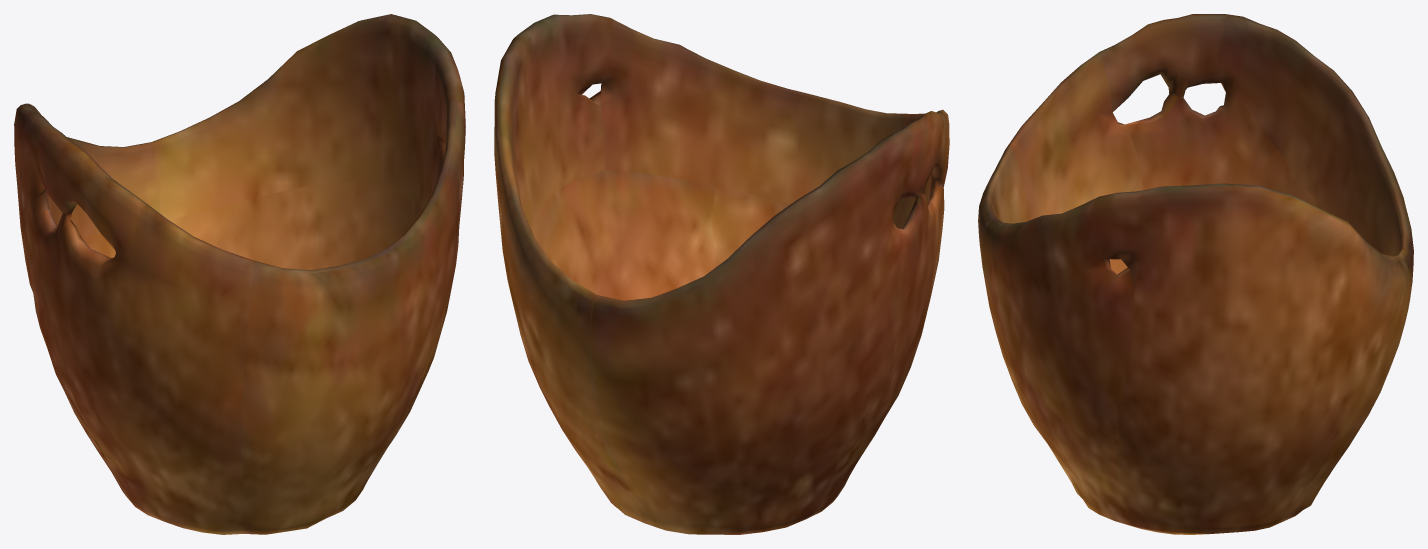
File: ph-wooden-bowl-02.glb
The picture shows the model from 3 angles, left to right: view 1: azimuth 30°, elevation 25°; view 2: azimuth 150°, elevation 25°; view 3: azimuth 270°, elevation 25°; orthographic projection. The views are drawn at different scales.
Visible parts, largest first — view 1: wooden_bowl_02; view 2: wooden_bowl_02; view 3: wooden_bowl_02.
Boxes of the visible parts, <box> form: wooden_bowl_02: <box>14,14,465,534</box>; wooden_bowl_02: <box>494,14,949,534</box>; wooden_bowl_02: <box>978,14,1413,534</box>.
Size of the model in its own units: 1 by 1 by 1.
1 material, 1 textured.
